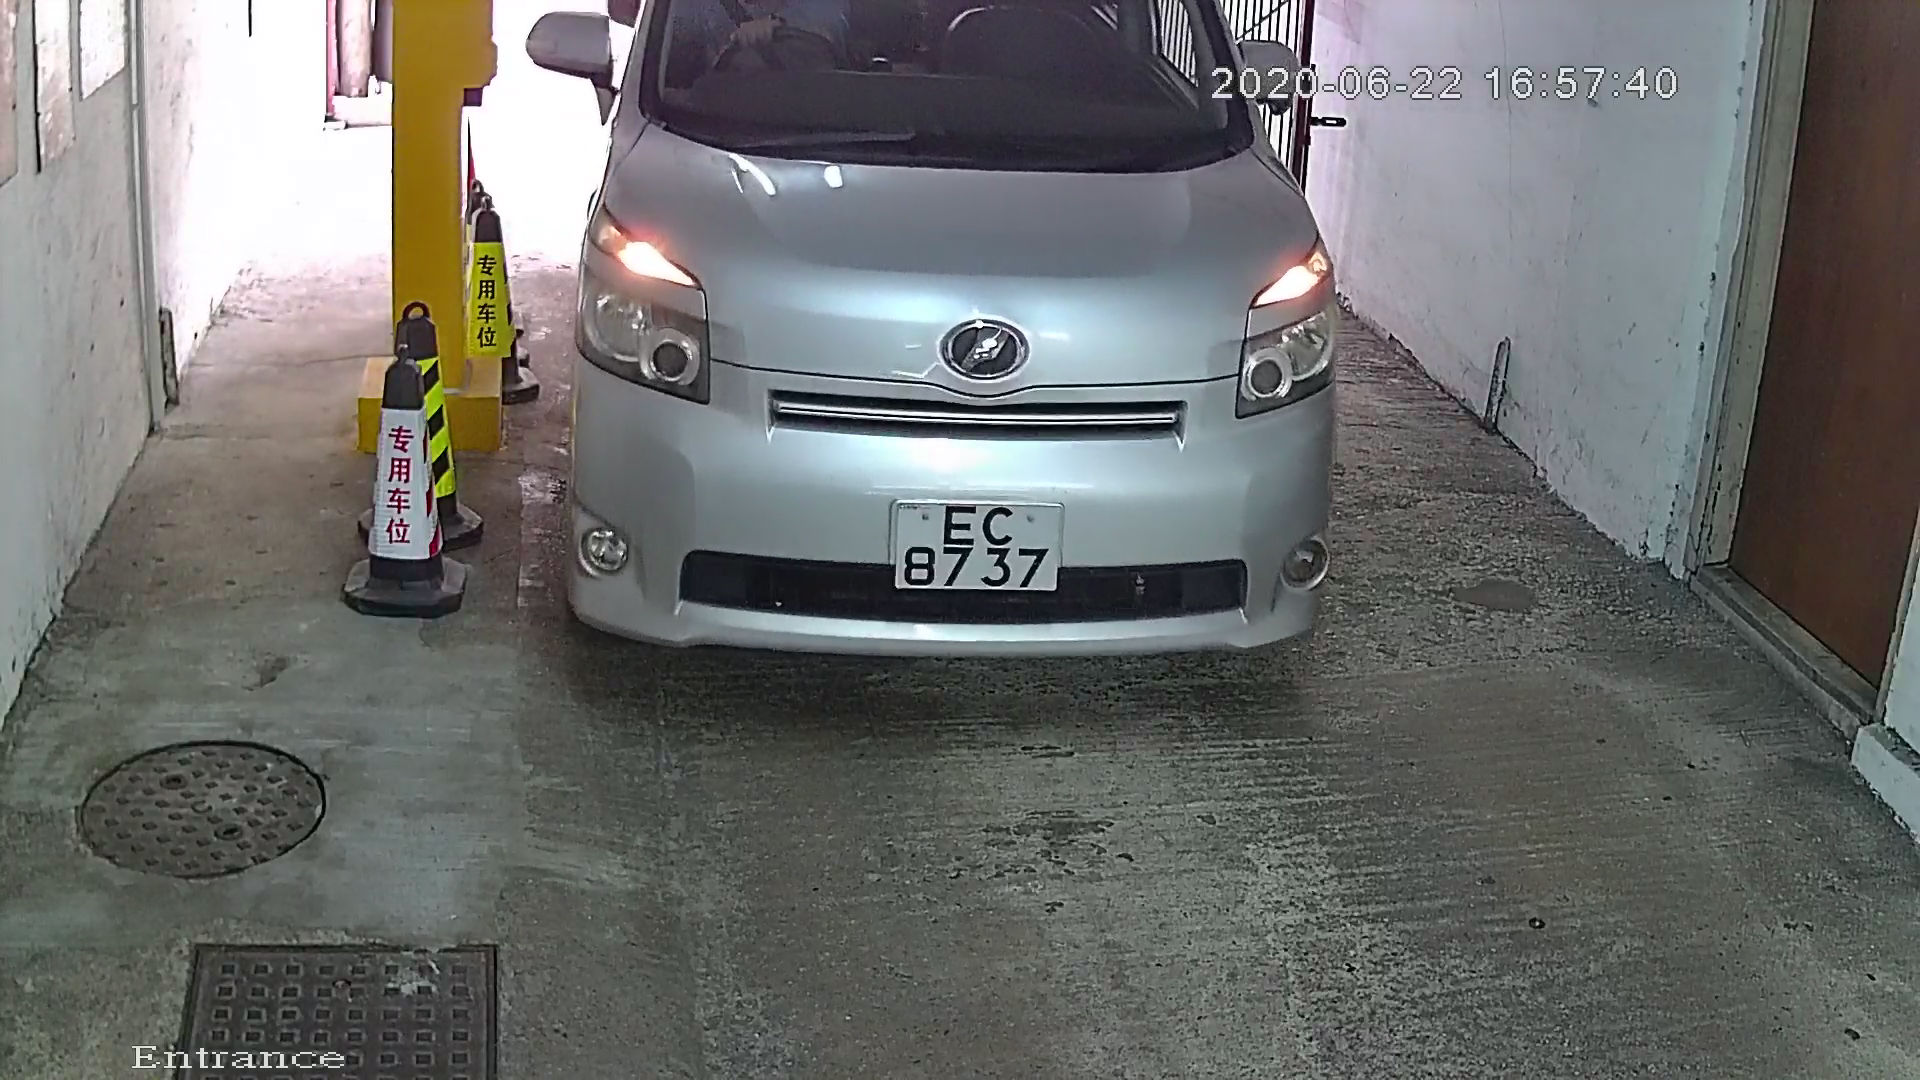privatecar: (491, 3, 1411, 727)
